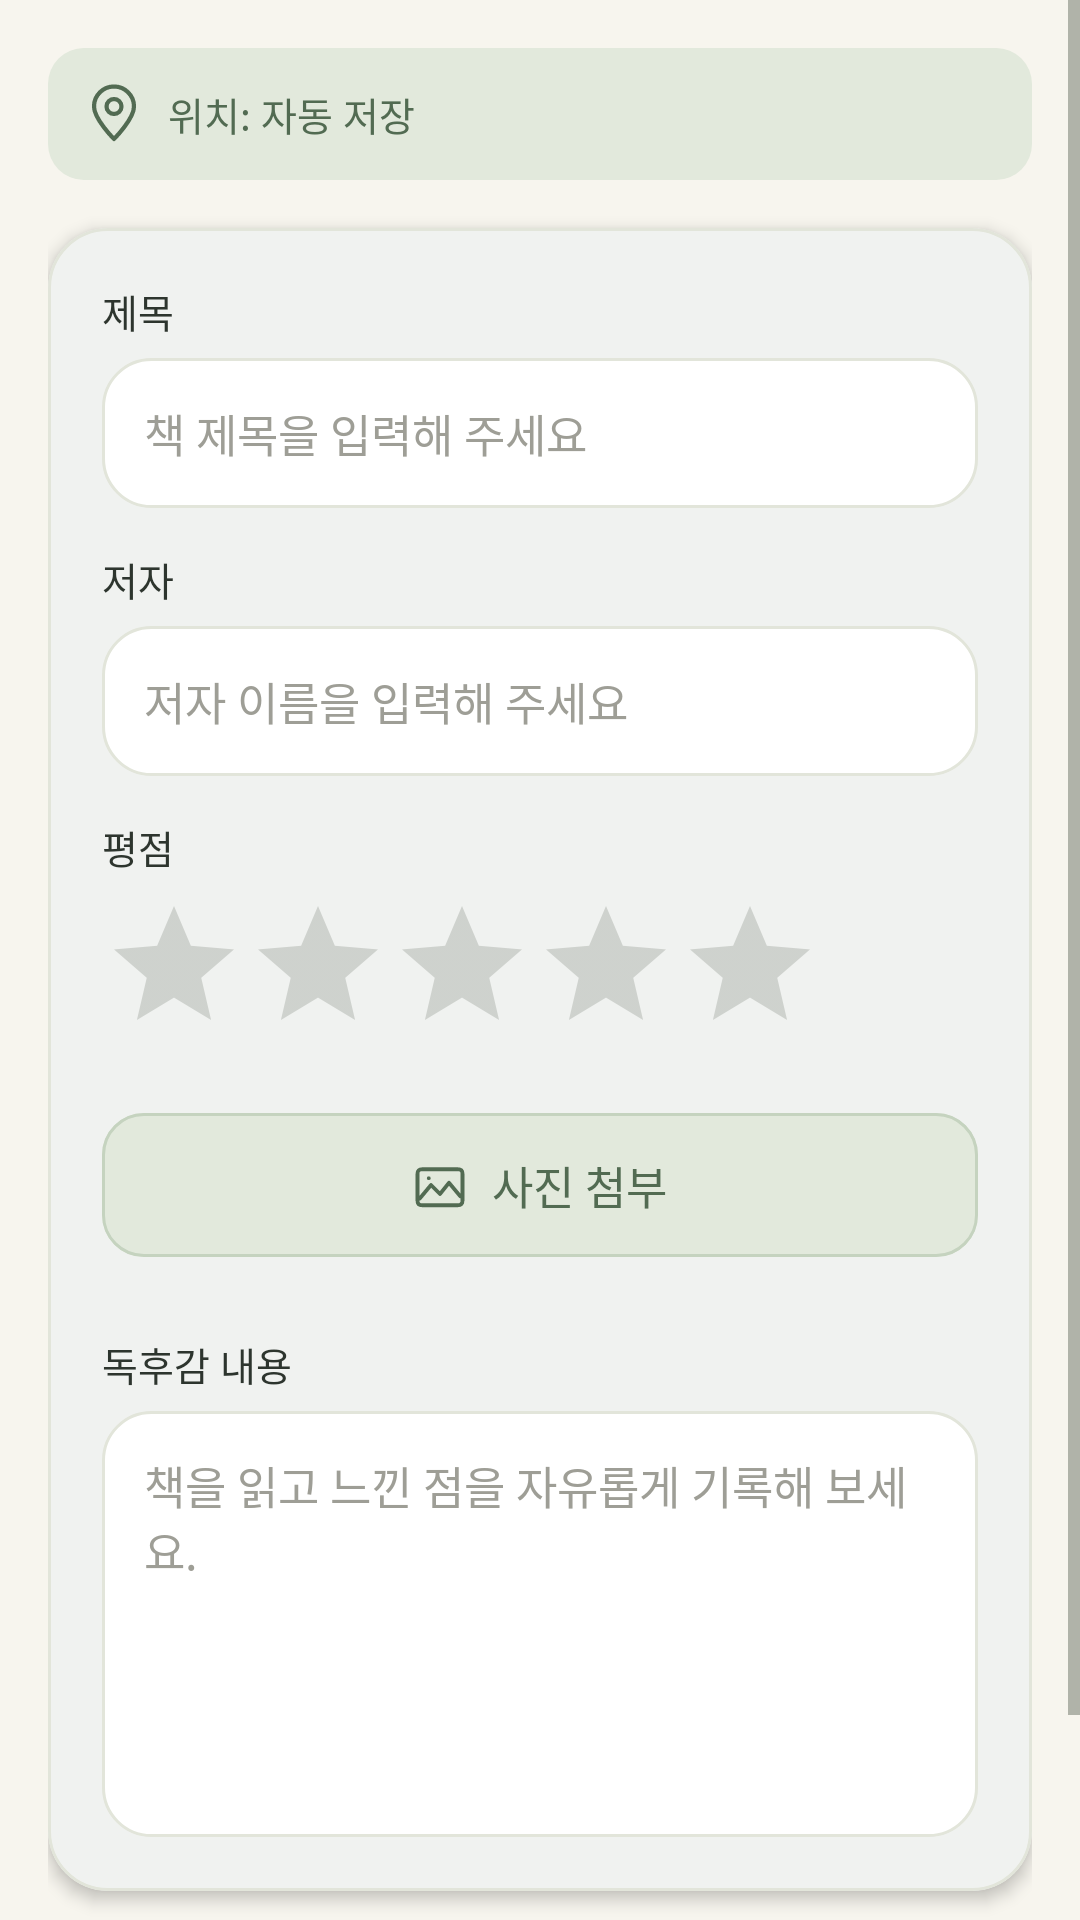

Icon bounding boxes for this 1080w x 1920h phone screenshot, format region(x1, y1, x2, y2):
location icon: region(92, 84, 136, 141)
